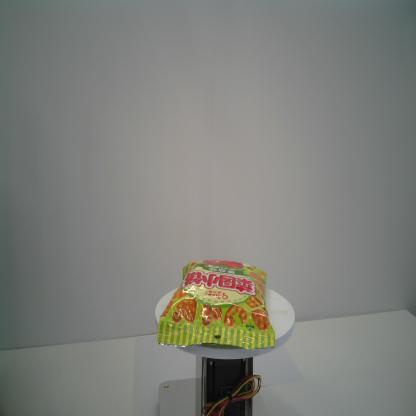Puffed Food: (155, 258, 278, 354)
